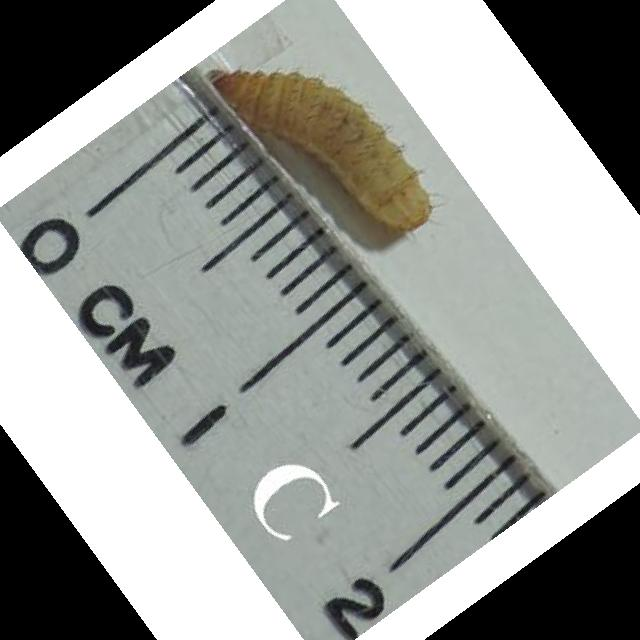Maggot: (209, 59, 432, 231)
